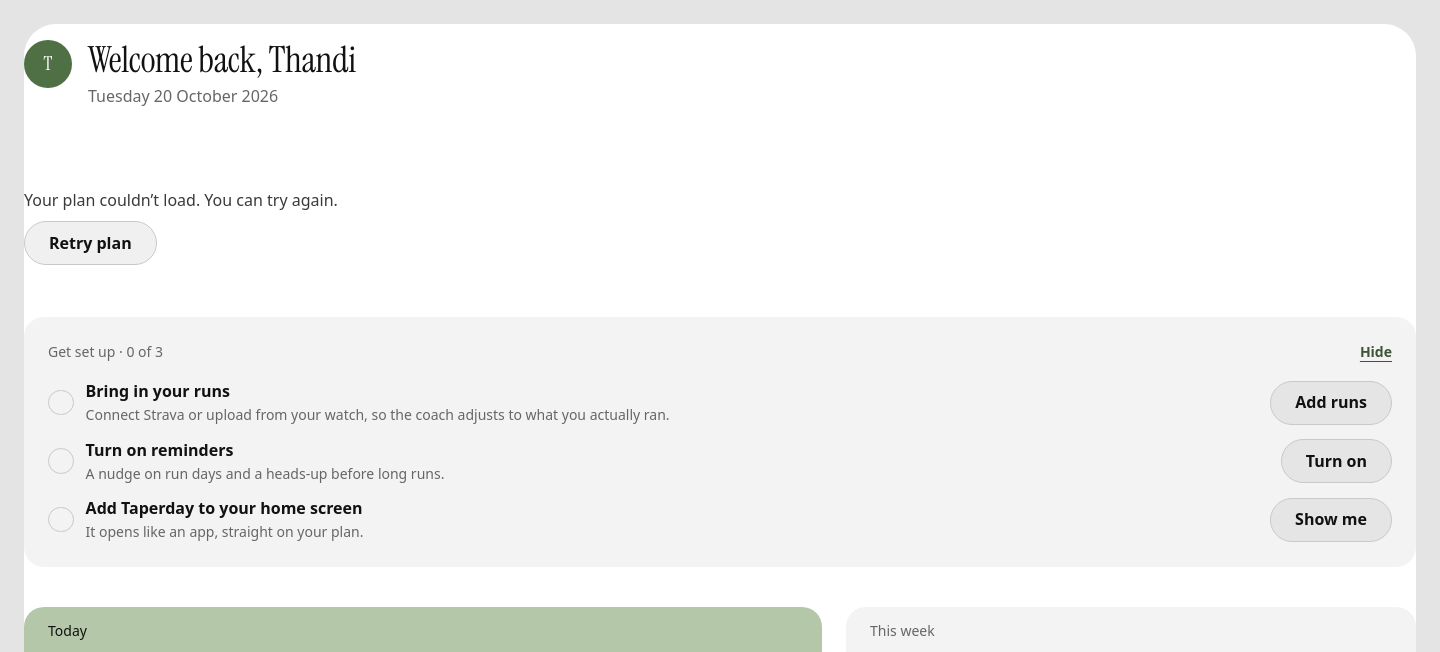
Test: Home › recovers a failed plan request without keeping a loading skeleton on screen
Click the button "Retry plan" at point(90, 243), box [24, 221, 157, 265]
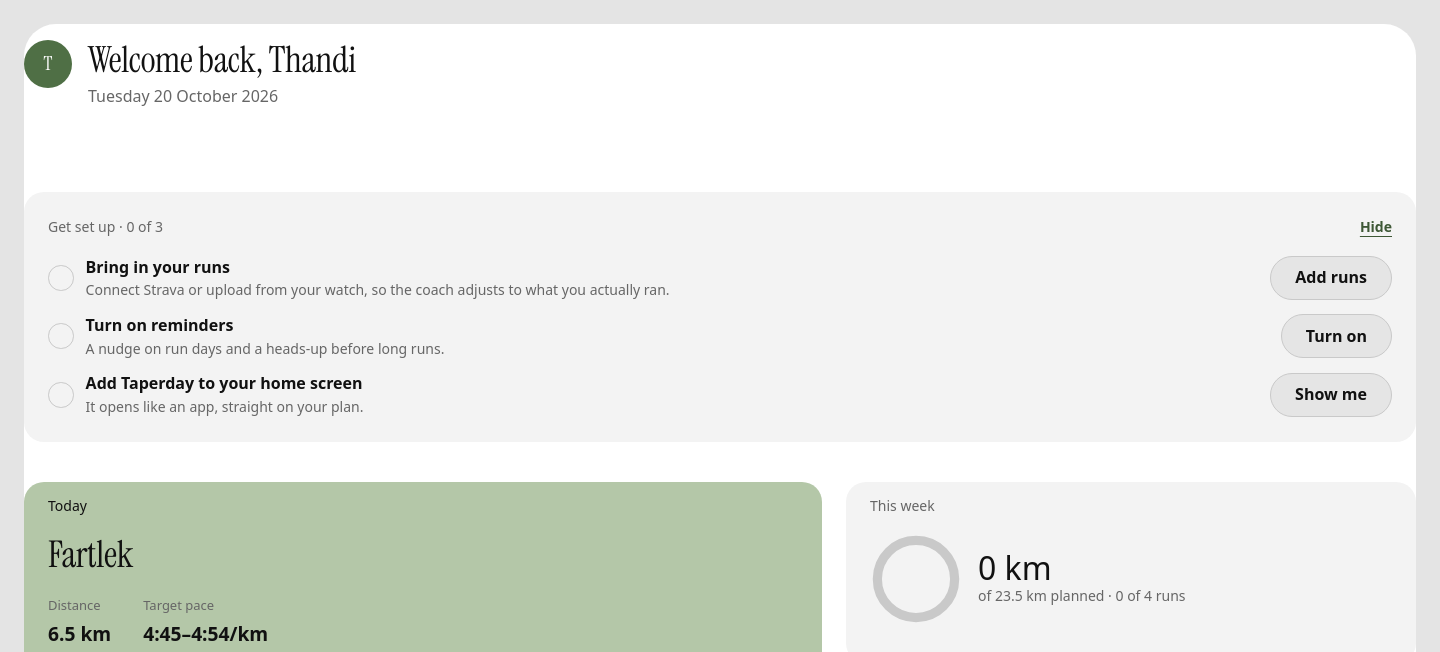
Now the text "Fartlek" is shown, box [48, 531, 133, 578]
Now the button "Retry plan" is gone
